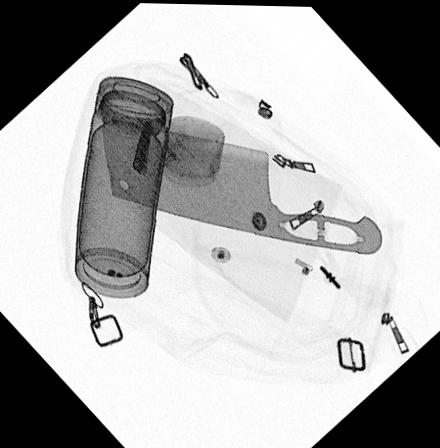Knife: (101, 113, 383, 253)
